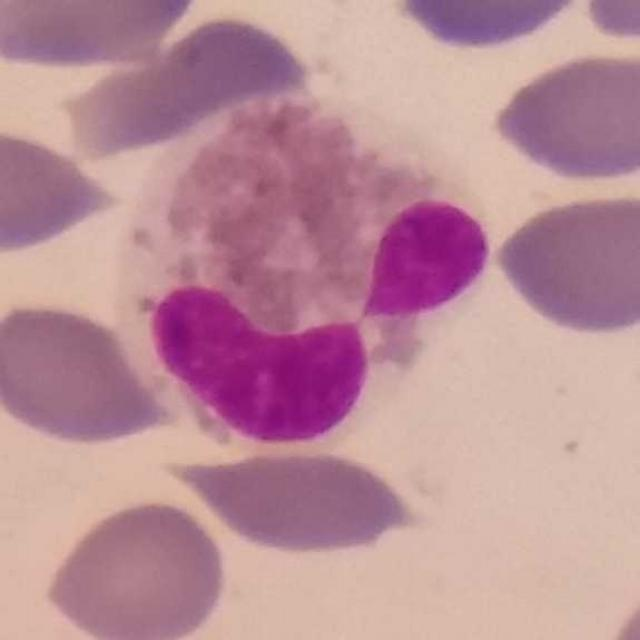eosino: (112, 68, 495, 459)
